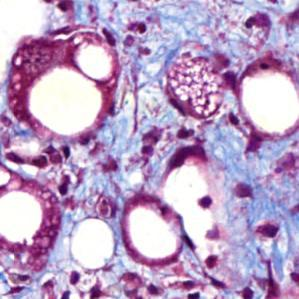steatosis: (240, 68, 299, 133), (70, 214, 117, 270)
